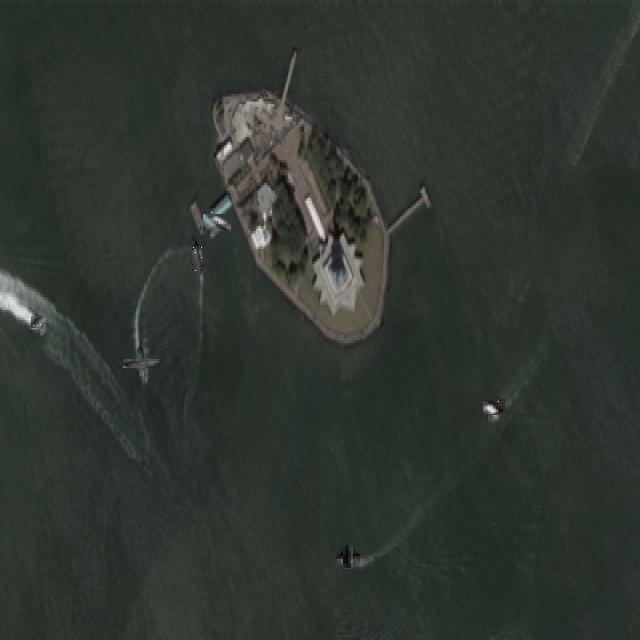boat: (190, 236, 204, 274), (206, 210, 228, 234), (130, 352, 152, 374), (483, 398, 504, 418), (340, 548, 356, 564), (32, 315, 46, 330)
